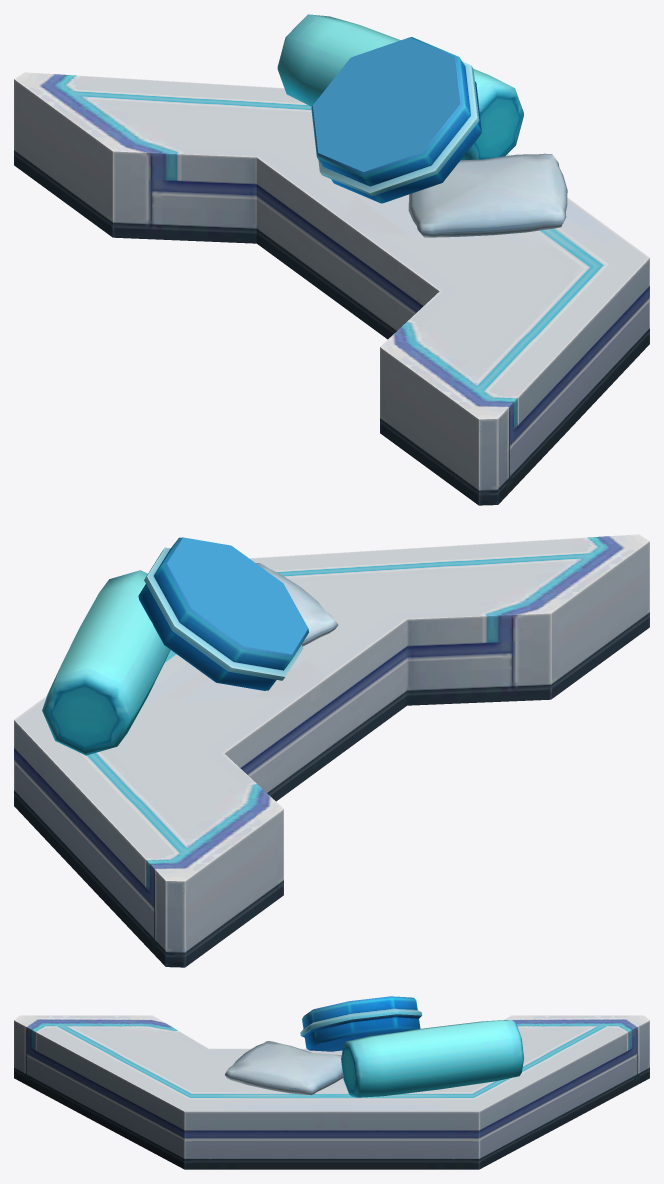
The model's file is my_millenniumlounge_01_bench_04.glb.
3 renders of one model, top to bottom at view 1: azimuth 30°, elevation 25°; view 2: azimuth 150°, elevation 25°; view 3: azimuth 270°, elevation 25°, orthographic. The views are drawn at different scales.
Visible parts, largest first — view 1: my_millenniumlounge_01_bench_04; view 2: my_millenniumlounge_01_bench_04; view 3: my_millenniumlounge_01_bench_04.
Part boxes in pixels (x1,y1,x2,y2): my_millenniumlounge_01_bench_04: (14, 14, 649, 505); my_millenniumlounge_01_bench_04: (14, 534, 649, 967); my_millenniumlounge_01_bench_04: (14, 996, 649, 1169).
Bounding box in the file's own units: 0.00583 × 0.00401 × 0.016.
1 material, 1 textured.
